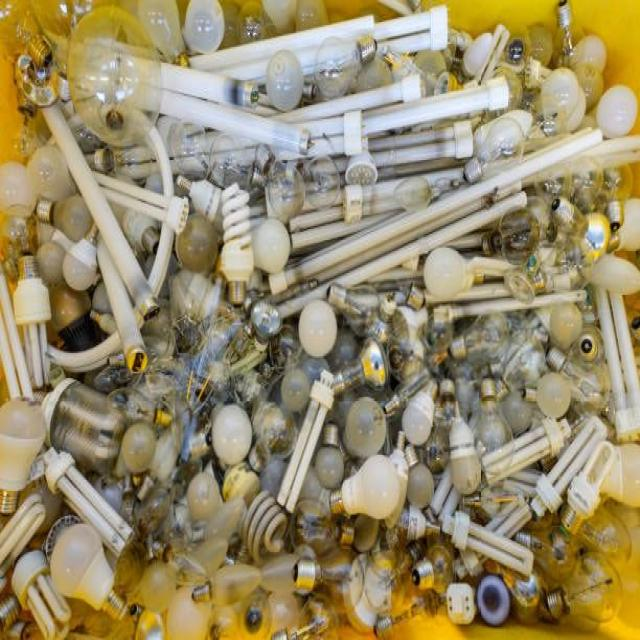electronic: (0, 0, 638, 638), (340, 452, 400, 519), (265, 49, 303, 110)
